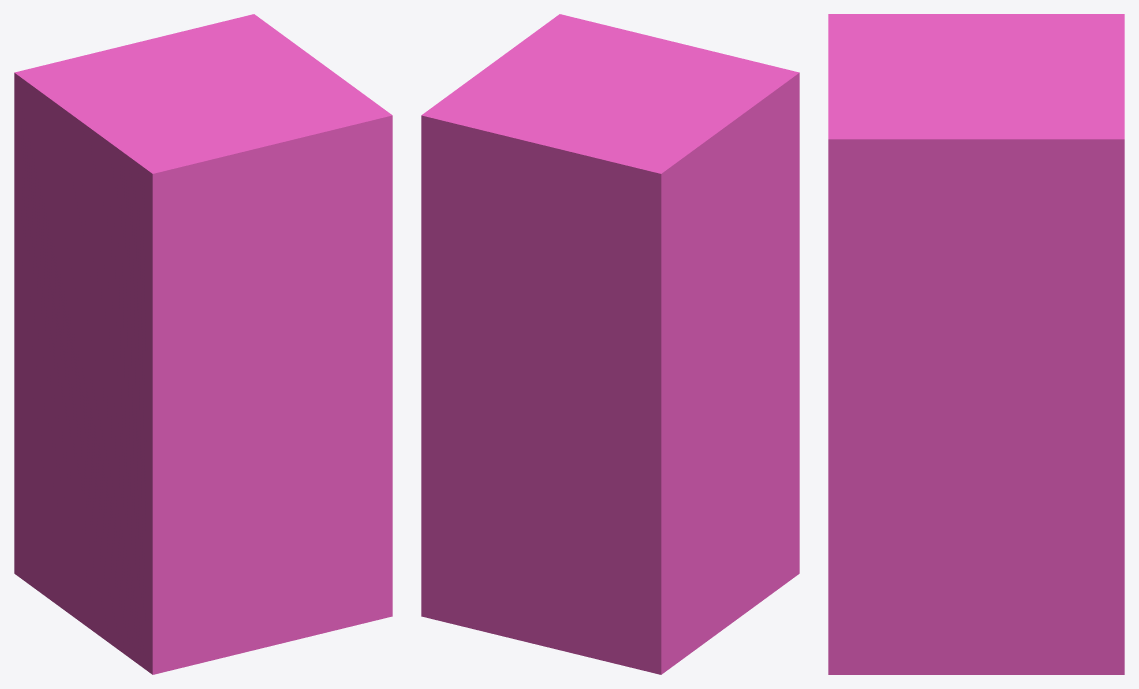
The model's file is PinkNormalEdge.fbx.
The picture shows the model from 3 angles, left to right: view 1: azimuth 30°, elevation 25°; view 2: azimuth 150°, elevation 25°; view 3: azimuth 270°, elevation 25°; orthographic projection. The views are drawn at different scales.
Visible parts, largest first — view 1: 4.BODY.green.010; view 2: 4.BODY.green.010; view 3: 4.BODY.green.010.
Part boxes in pixels (x1,y1,x2,y2): 4.BODY.green.010: (14,14,392,674); 4.BODY.green.010: (421,14,799,674); 4.BODY.green.010: (828,14,1124,674).
Size of the model in its own units: 101 by 201 by 101.
